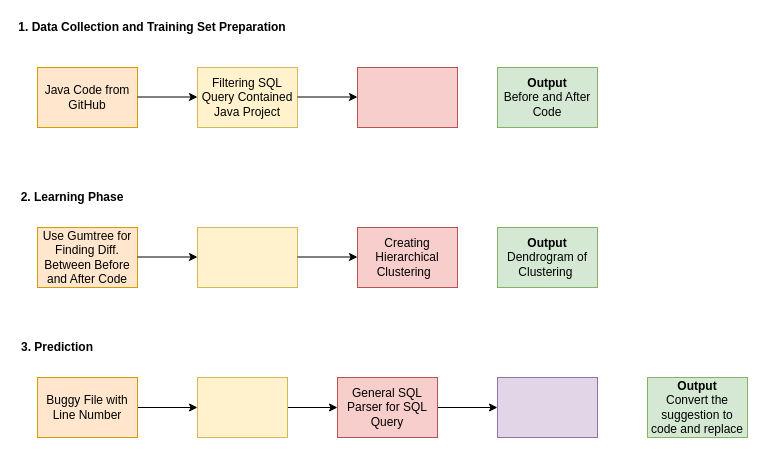
Some shapes in this 765 by 455 pixel diagram are drawn without their labels. Here are the shapes that lost their labels. From the top down, the centre of each, then its label:
the point at 407,97: Manually Prepare the Training Set
the point at 247,257: Replace SQL Query with Parsed Tree by GSP in AST Diff.
the point at 242,407: AST Builder from Buggy Line
the point at 547,407: Use dendogram to find best possible match
